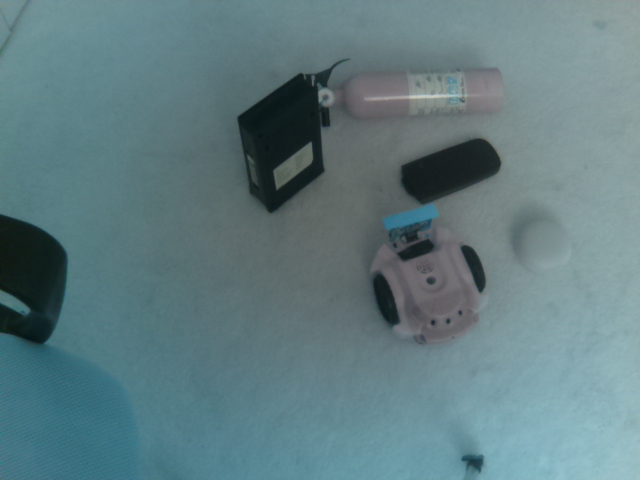board: (372, 198, 446, 247)
chassis: (365, 198, 497, 349)
